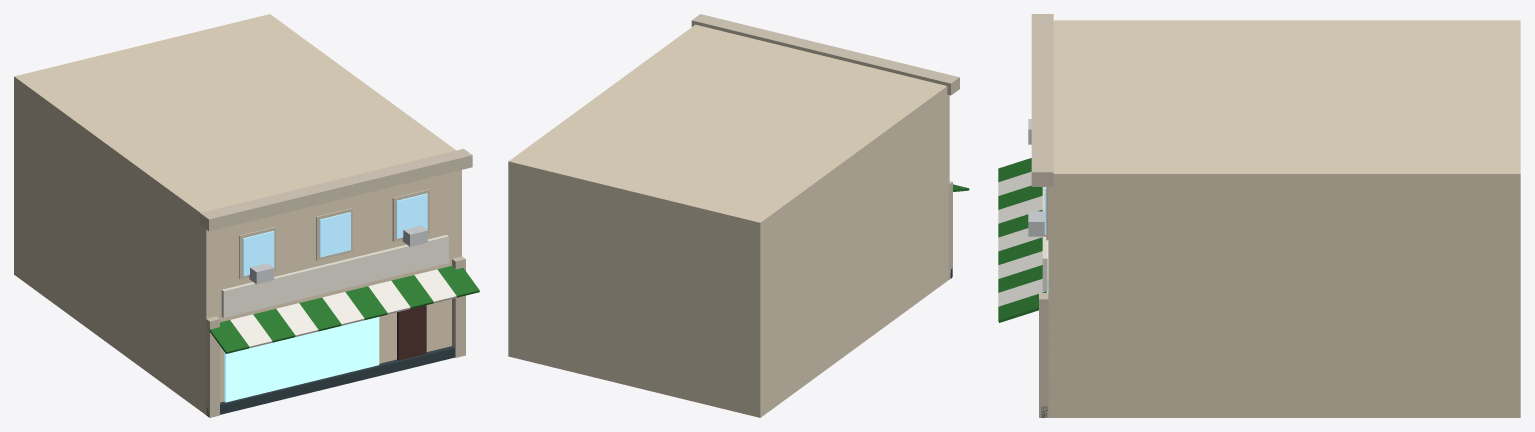
Rendered from town_mw_store.glb.
3 renders of one model, left to right at view 1: azimuth 30°, elevation 25°; view 2: azimuth 150°, elevation 25°; view 3: azimuth 270°, elevation 25°, orthographic. The views are drawn at different scales.
Parts seen in each view (by area): view 1: TownMwStore_body; view 2: TownMwStore_body; view 3: TownMwStore_body.
Part boxes in pixels (<box>): TownMwStore_body: <box>14,14,479,417</box>; TownMwStore_body: <box>508,14,969,417</box>; TownMwStore_body: <box>998,14,1520,417</box>.
Size of the model in its own units: 10.3 by 7.53 by 14.37.
